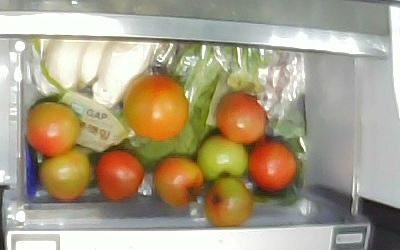tomato: (122, 74, 188, 141), (27, 102, 79, 155), (197, 133, 249, 185), (38, 150, 90, 201), (247, 140, 299, 191), (154, 156, 204, 209), (217, 92, 265, 143), (98, 150, 143, 200), (206, 178, 251, 226)
